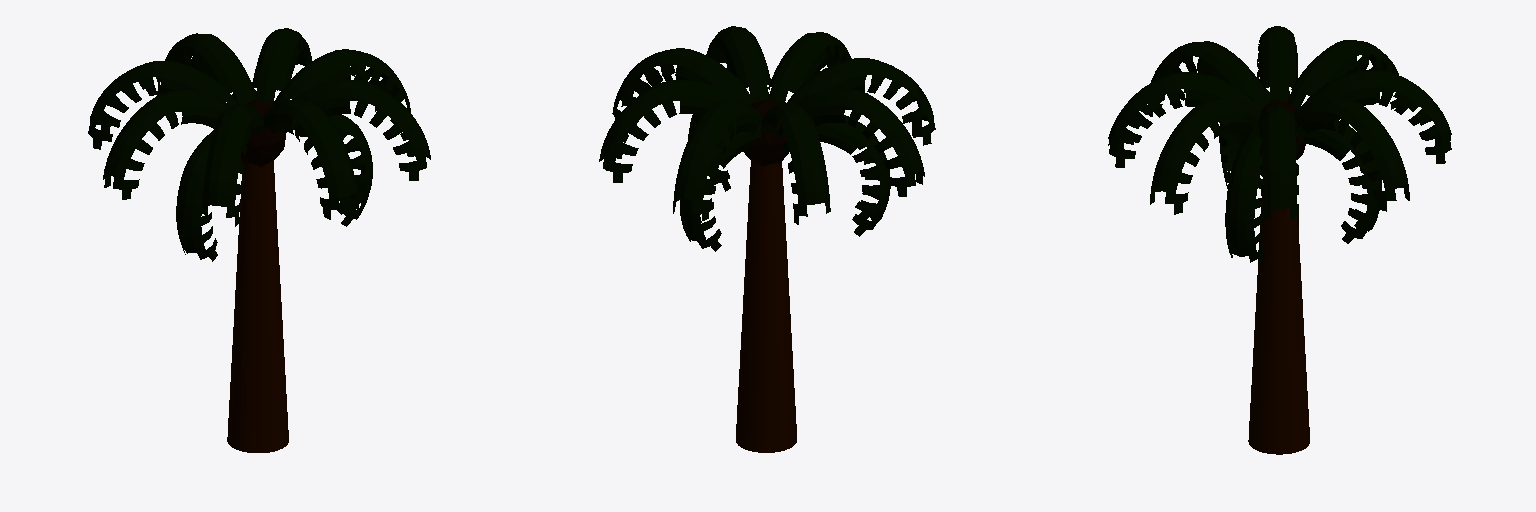
Rendered from tree.obj.
3 views of the same model, side by side, from view 1: azimuth 30°, elevation 25°; view 2: azimuth 150°, elevation 25°; view 3: azimuth 270°, elevation 25° (orthographic).
Visible parts, largest first — view 1: Cylinder, Torus.002, Torus.003, Torus.006, Torus.004, Torus.005, Torus, Torus.009_Torus.011, Torus.001, Torus.007, Torus.008, Icosphere; view 2: Cylinder, Torus.002, Torus.007, Torus.001, Torus.004, Torus.005, Torus, Torus.009_Torus.011, Torus.003, Torus.006, Torus.010, Icosphere; view 3: Cylinder, Torus.007, Torus.006, Torus.003, Torus.001, Torus, Torus.008, Torus.004, Torus.005, Torus.010, Torus.002, Torus.009_Torus.011.
Boxes of the visible parts, x1=… form: Cylinder: x1=227, y1=161, x2=288, y2=452; Torus.002: x1=103, y1=90, x2=229, y2=199; Torus.003: x1=263, y1=100, x2=358, y2=219; Torus.006: x1=293, y1=80, x2=430, y2=180; Torus.004: x1=88, y1=61, x2=237, y2=149; Torus.005: x1=202, y1=104, x2=264, y2=226; Torus: x1=273, y1=49, x2=410, y2=112; Torus.009_Torus.011: x1=176, y1=122, x2=250, y2=261; Torus.001: x1=157, y1=33, x2=254, y2=103; Torus.007: x1=251, y1=28, x2=311, y2=103; Torus.008: x1=292, y1=114, x2=372, y2=226; Icosphere: x1=241, y1=100, x2=286, y2=166; Cylinder: x1=736, y1=161, x2=796, y2=452; Torus.002: x1=797, y1=89, x2=924, y2=196; Torus.007: x1=599, y1=80, x2=736, y2=182; Torus.001: x1=673, y1=100, x2=762, y2=220; Torus.004: x1=761, y1=102, x2=830, y2=224; Torus.005: x1=787, y1=58, x2=935, y2=145; Torus: x1=612, y1=48, x2=753, y2=119; Torus.009_Torus.011: x1=816, y1=115, x2=890, y2=236; Torus.003: x1=768, y1=32, x2=851, y2=103; Torus.006: x1=706, y1=26, x2=770, y2=101; Torus.010: x1=680, y1=119, x2=761, y2=251; Icosphere: x1=743, y1=100, x2=789, y2=166; Cylinder: x1=1248, y1=196, x2=1309, y2=454; Torus.007: x1=1293, y1=96, x2=1409, y2=211; Torus.006: x1=1150, y1=98, x2=1261, y2=214; Torus.003: x1=1108, y1=72, x2=1261, y2=167; Torus.001: x1=1303, y1=70, x2=1451, y2=163; Torus: x1=1258, y1=105, x2=1298, y2=227; Torus.008: x1=1225, y1=127, x2=1264, y2=262; Torus.004: x1=1287, y1=40, x2=1402, y2=114; Torus.005: x1=1147, y1=41, x2=1269, y2=116; Torus.010: x1=1297, y1=120, x2=1381, y2=243; Torus.002: x1=1257, y1=26, x2=1297, y2=101; Torus.009_Torus.011: x1=1219, y1=89, x2=1270, y2=188.
Bounding box in the file's own units: 3.57 × 4.18 × 3.53.